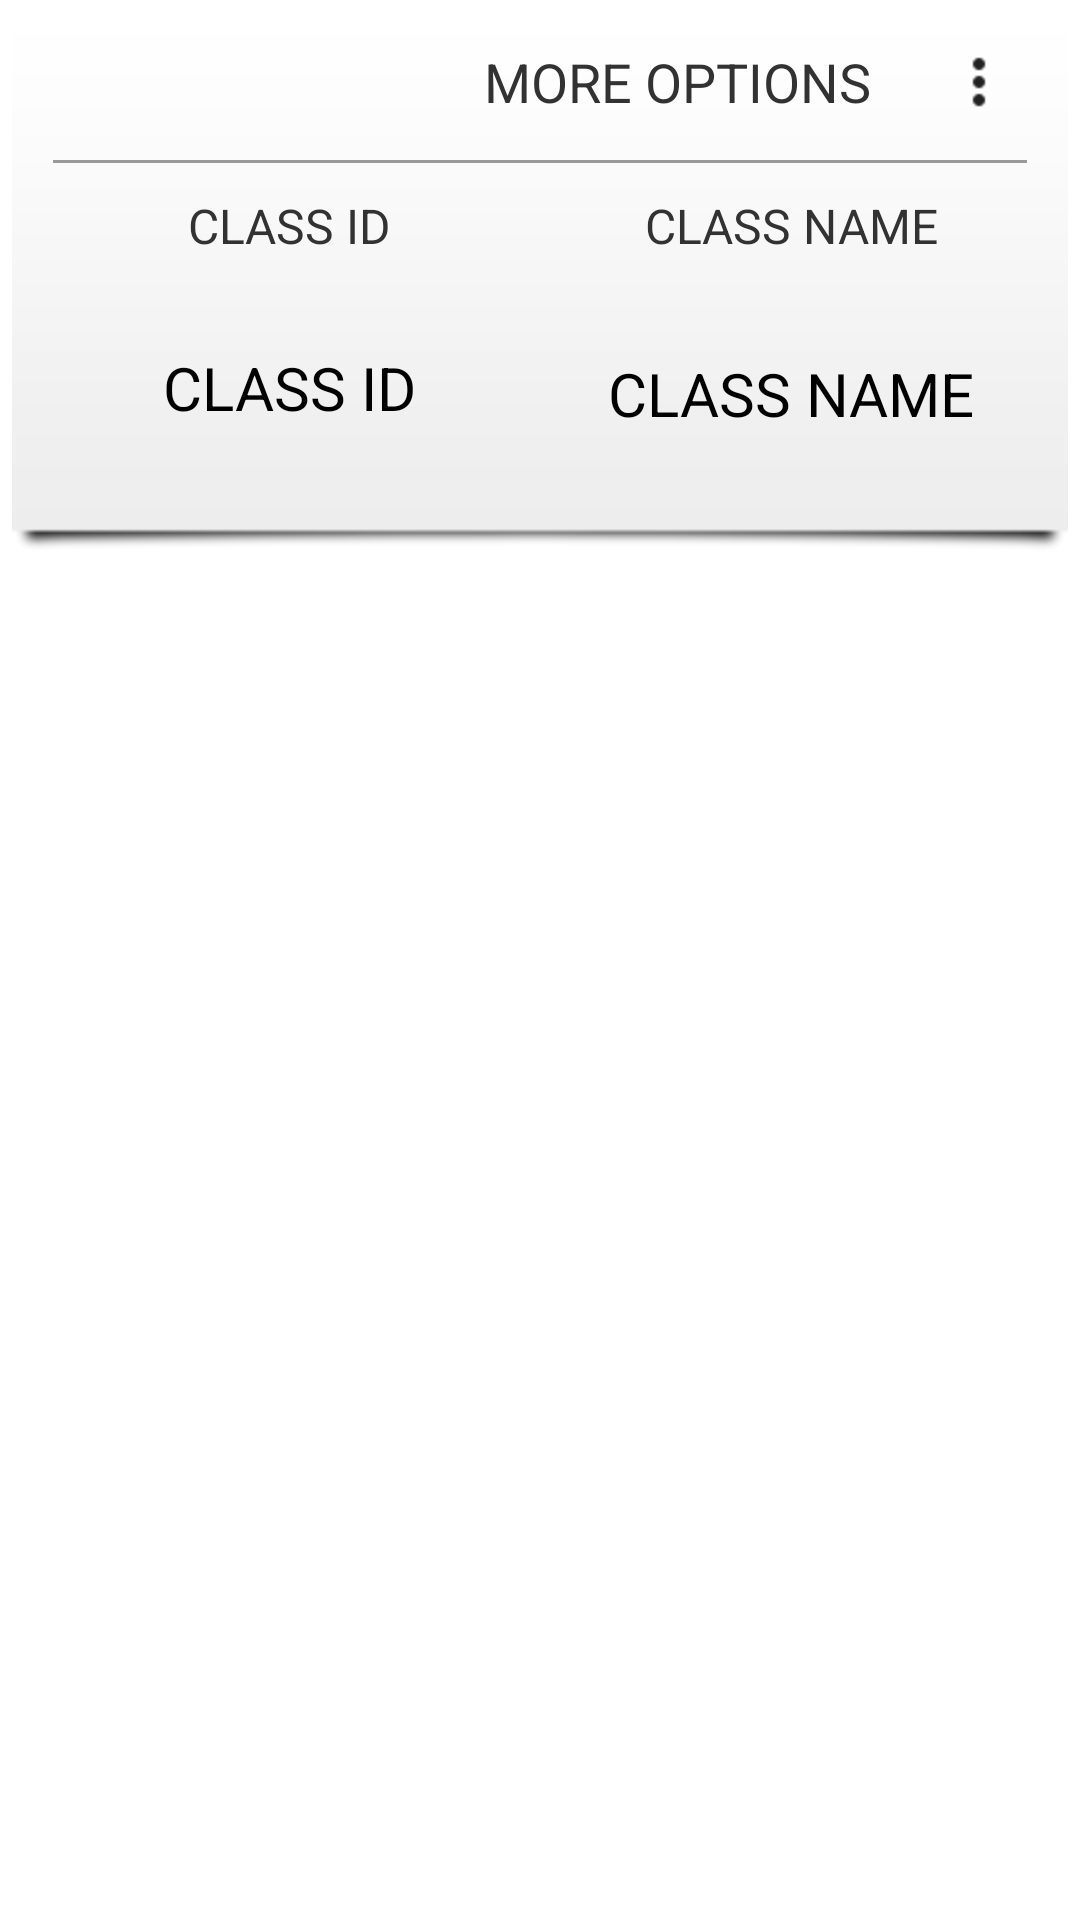

Screen size 1080w x 1920h. Icon name, then its box in pixels as (x1, y1, x2, y2):
overflow: (972, 57, 986, 107)
